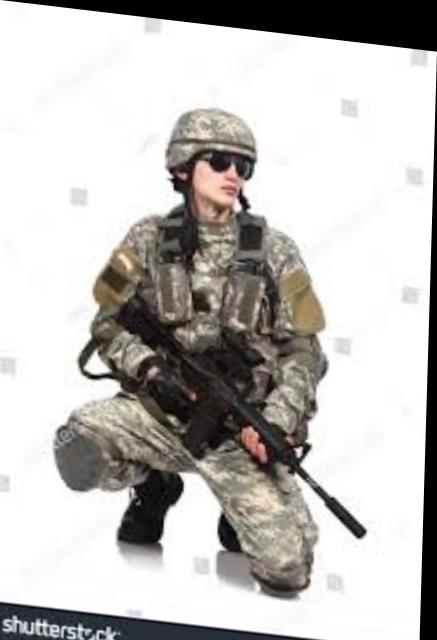other: (50, 90, 331, 583)
